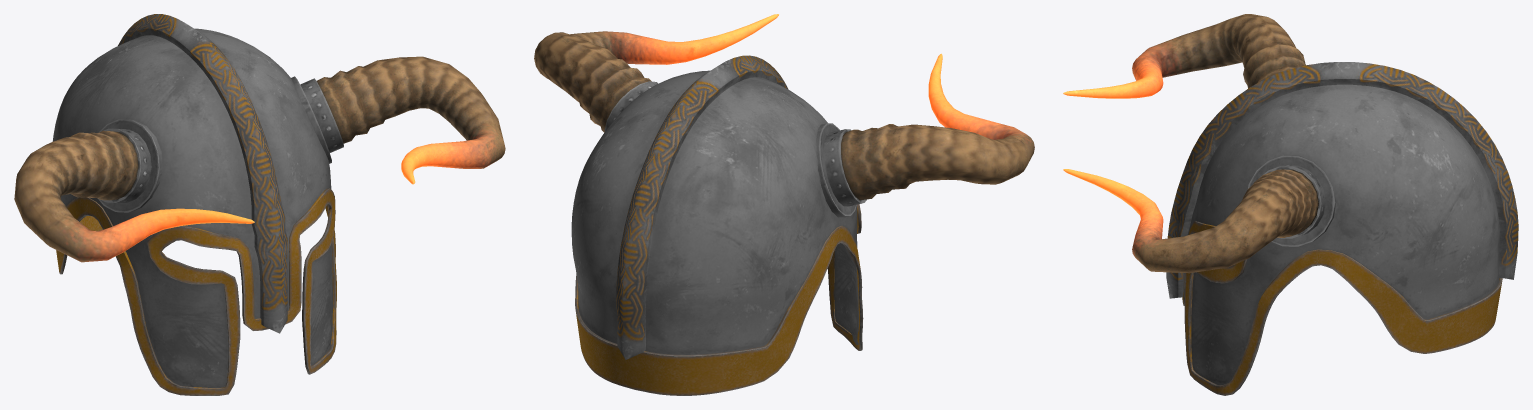
Rendered from casque_viking.glb.
3 views of the same model, side by side, from view 1: azimuth 30°, elevation 25°; view 2: azimuth 150°, elevation 25°; view 3: azimuth 270°, elevation 25° (orthographic). The views are drawn at different scales.
Visible parts, largest first — view 1: casque_low, corne_low, bar_low, basecorne_low; view 2: casque_low, corne_low, bar_low, basecorne_low; view 3: casque_low, corne_low, bar_low, basecorne_low.
Boxes of the visible parts, <box> form: casque_low: <box>52,14,332,387</box>; corne_low: <box>14,56,505,262</box>; bar_low: <box>56,188,336,395</box>; basecorne_low: <box>98,76,343,212</box>; casque_low: <box>571,55,858,359</box>; corne_low: <box>534,14,1034,200</box>; bar_low: <box>575,204,863,395</box>; basecorne_low: <box>604,81,866,217</box>; casque_low: <box>1166,62,1518,384</box>; corne_low: <box>1063,14,1318,273</box>; bar_low: <box>1182,221,1502,395</box>; basecorne_low: <box>1248,155,1336,246</box>.
Bounding box in the file's own units: 39.45 × 24.76 × 34.46.
1 material, 1 textured.
